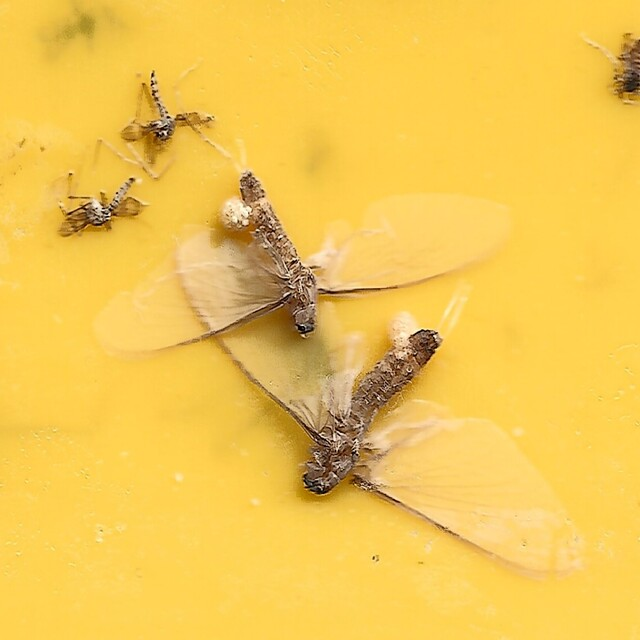Ephemeroptera: (173, 231, 583, 572), (96, 167, 509, 355)
Nematocera: (120, 68, 215, 148), (57, 175, 141, 240)
